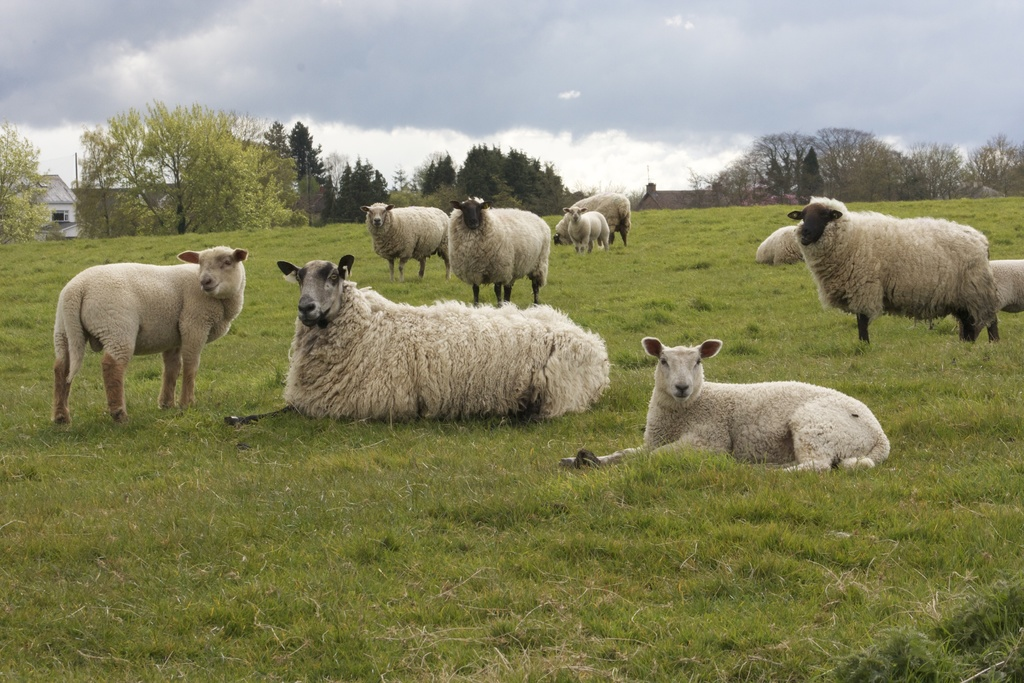sheep: (779, 194, 1011, 359)
